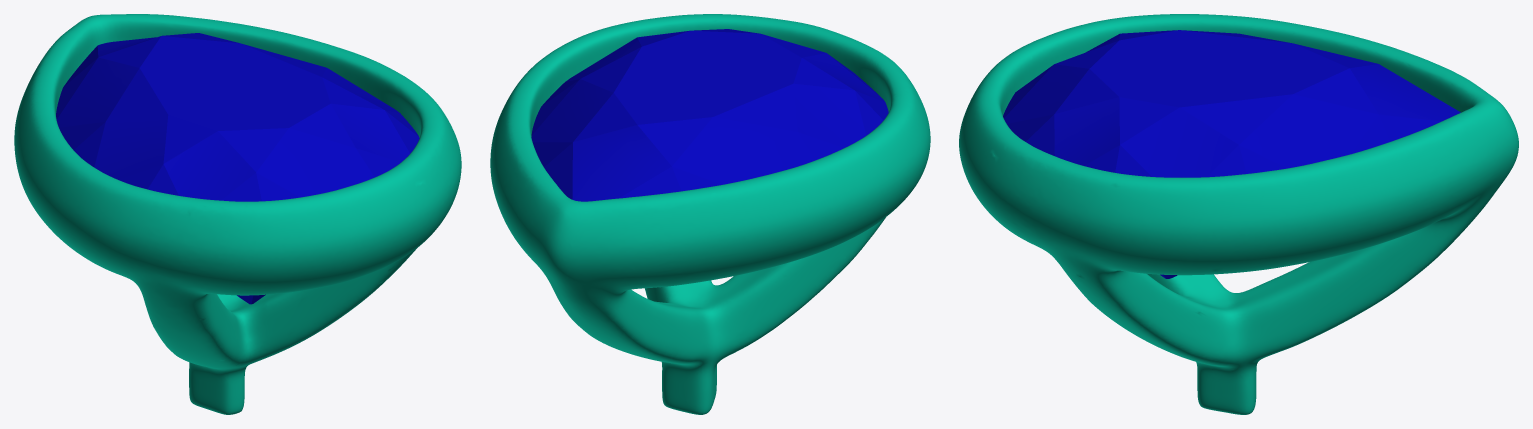
File: Pear.glb
The picture shows the model from 3 angles, left to right: view 1: azimuth 30°, elevation 25°; view 2: azimuth 150°, elevation 25°; view 3: azimuth 270°, elevation 25°; orthographic projection. The views are drawn at different scales.
Parts seen in each view (by area): view 1: /GSMOD388300- BEZEL_Pear_IJ.3dm, Diamond_Pear; view 2: /GSMOD388300- BEZEL_Pear_IJ.3dm, Diamond_Pear; view 3: /GSMOD388300- BEZEL_Pear_IJ.3dm, Diamond_Pear.
Boxes of the visible parts, bbox=[...] form: /GSMOD388300- BEZEL_Pear_IJ.3dm: bbox=[14, 14, 461, 414]; Diamond_Pear: bbox=[56, 33, 419, 304]; /GSMOD388300- BEZEL_Pear_IJ.3dm: bbox=[490, 14, 930, 414]; Diamond_Pear: bbox=[531, 29, 888, 201]; /GSMOD388300- BEZEL_Pear_IJ.3dm: bbox=[959, 14, 1518, 414]; Diamond_Pear: bbox=[1003, 30, 1460, 278].
Size of the model in its own units: 7.89 by 6.56 by 9.87.
